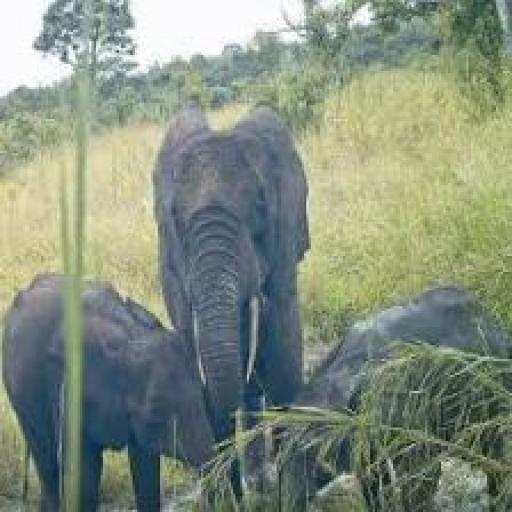Elephant: (142, 87, 340, 425), (2, 281, 245, 512)
